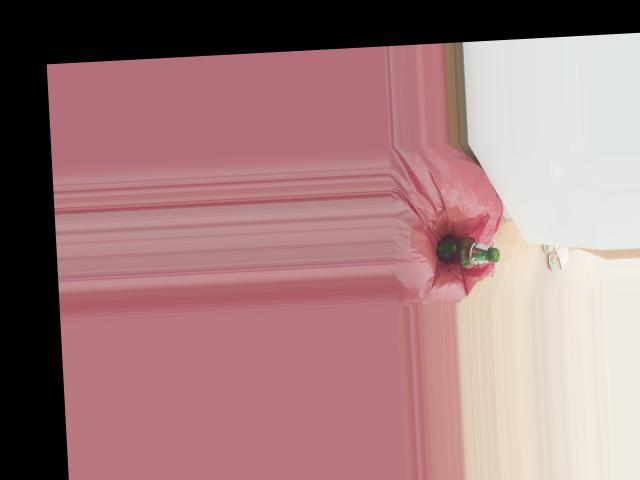beer: (435, 232, 500, 269)
